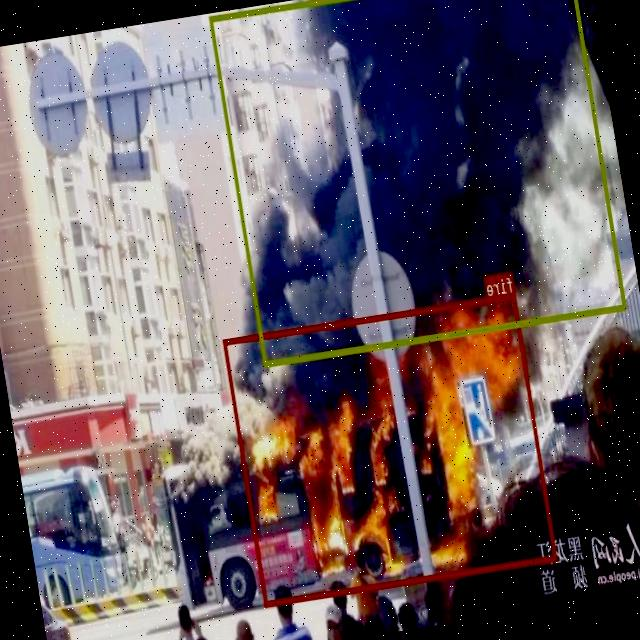fire: (223, 293, 558, 606)
smoke: (209, 0, 627, 366)
